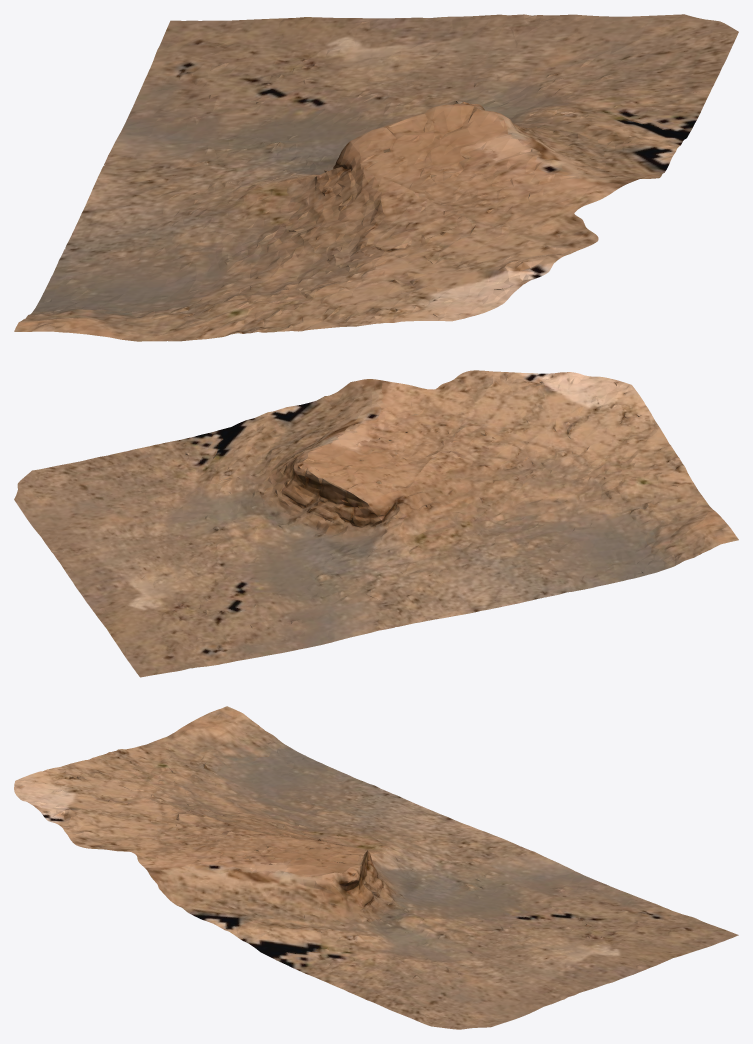
The picture shows the model from 3 angles, top to bottom: view 1: azimuth 30°, elevation 25°; view 2: azimuth 150°, elevation 25°; view 3: azimuth 270°, elevation 25°; orthographic projection. The views are drawn at different scales.
Bounding box in the file's own units: 112 × 14.16 × 110.
1 material, 1 textured.
